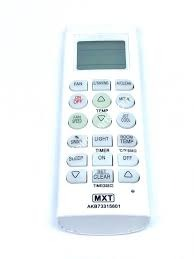remote control: (62, 21, 147, 234)
